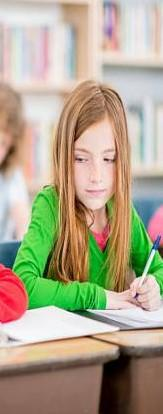cheating: (14, 74, 163, 338)
